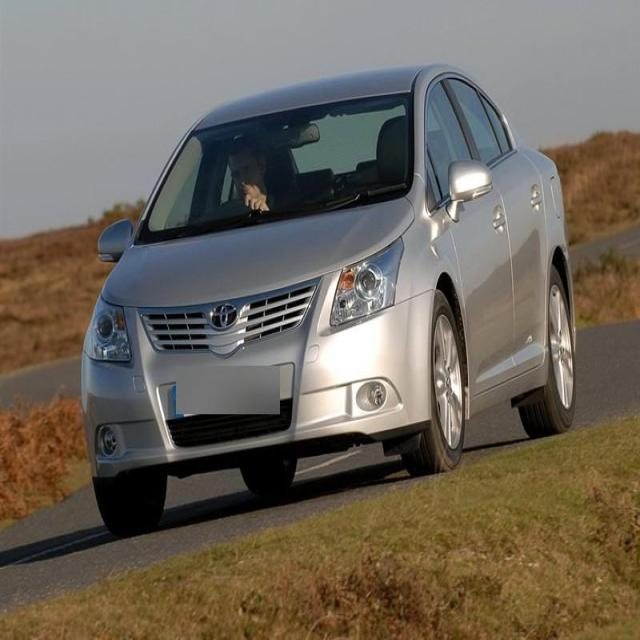front_bumper: (78, 291, 433, 480)
front_glass: (137, 88, 414, 247)
front_left_side_door: (422, 72, 518, 402)
front_left_side_light: (328, 236, 406, 327)
front_left_side_mirror: (446, 157, 494, 220)
front_right_side_light: (81, 291, 135, 367)
front_right_side_mirror: (94, 218, 136, 266)
wheel: (407, 290, 463, 475), (522, 272, 574, 436)
